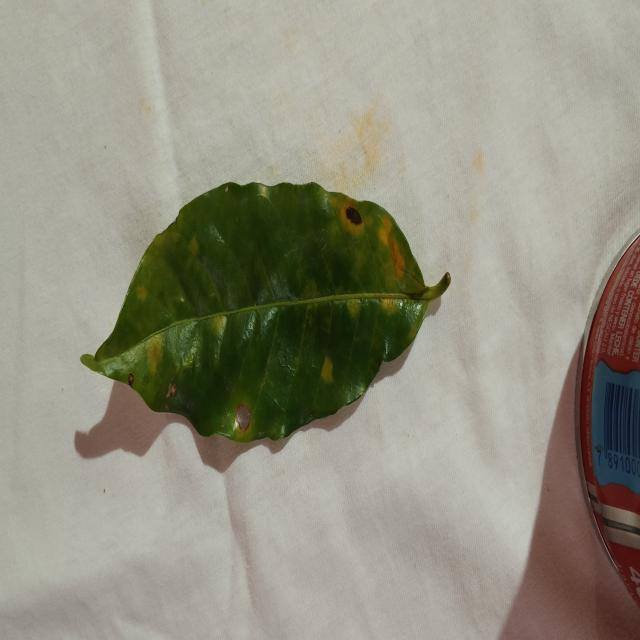Enfermedad-Roya: (80, 183, 451, 452)
